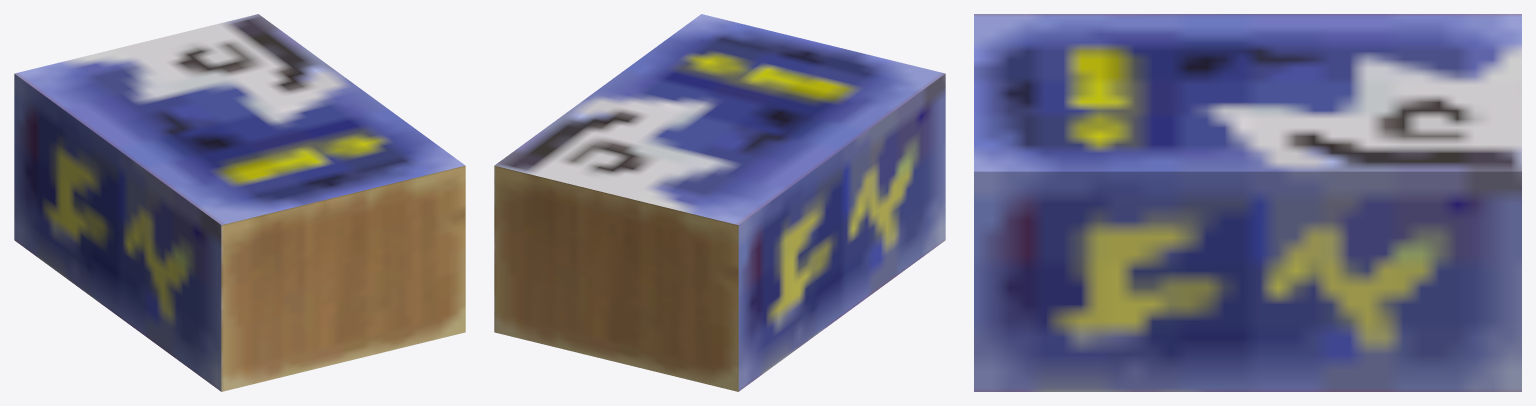
The model's file is gunshopammoboxblue.obj.
3 renders of one model, left to right at view 1: azimuth 30°, elevation 25°; view 2: azimuth 150°, elevation 25°; view 3: azimuth 270°, elevation 25°, orthographic. The views are drawn at different scales.
Parts seen in each view (by area): view 1: gunshopammoboxblue; view 2: gunshopammoboxblue; view 3: gunshopammoboxblue.
Part boxes in pixels (x1,y1,x2,y2): gunshopammoboxblue: (14, 14, 465, 391); gunshopammoboxblue: (494, 14, 945, 391); gunshopammoboxblue: (974, 14, 1521, 391).
Size of the model in its own units: 0.2511 by 0.1638 by 0.3689.
1 material, 1 textured.
